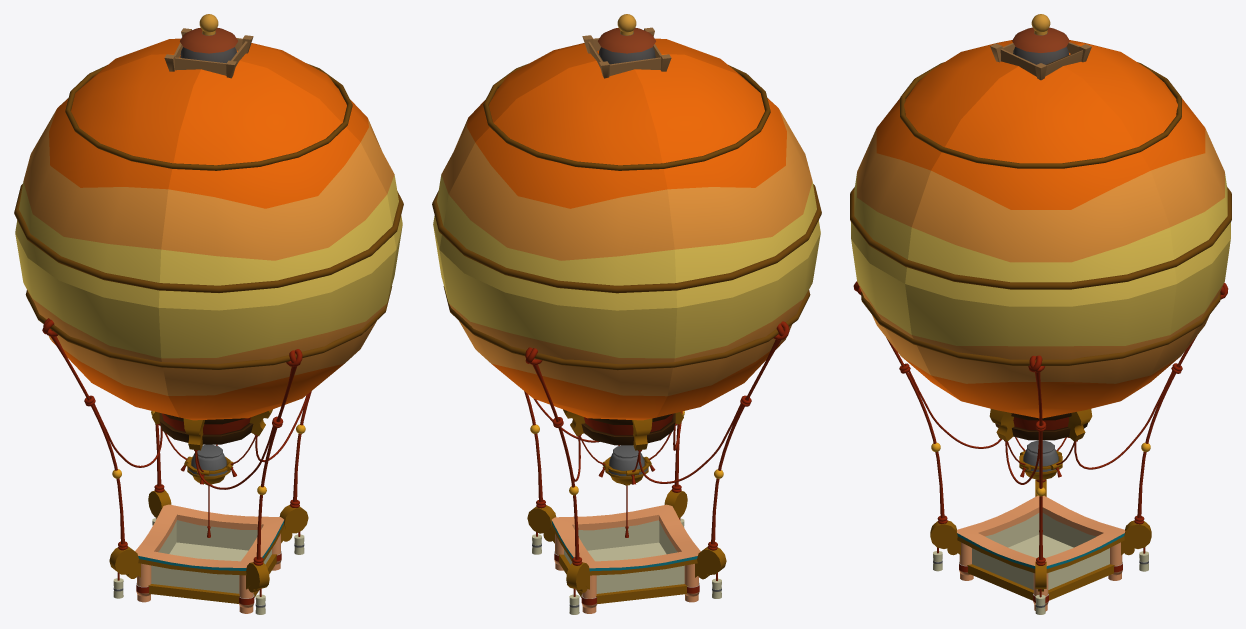
The model's file is Ballon1.fbx.
The picture shows the model from 3 angles, left to right: view 1: azimuth 30°, elevation 25°; view 2: azimuth 150°, elevation 25°; view 3: azimuth 270°, elevation 25°; orthographic projection.
Visible parts, largest first — view 1: Ballon, pCube24, pCube23, pTorus2, pTorus3, pTorus1, Vsas, pCylinder61, pTorus15, pCube39, pCube25, polySurface29 (+5 smaller); view 2: Ballon, pCube24, pCube23, pTorus2, pTorus3, pTorus1, Vsas, pCylinder61, pCylinder60, pCube39, pCube25, polySurface29 (+5 smaller); view 3: Ballon, pCube24, pCube23, pTorus2, pTorus3, pTorus1, pTorus14, pCube25, pCylinder60, pCube39, pTorus15, Vsas (+7 smaller).
Boxes of the visible parts, box(x1,y1,x2,y2) form: Ballon: box(15, 38, 402, 420); pCube24: box(135, 504, 284, 575); pCube23: box(151, 520, 271, 593); pTorus2: box(14, 184, 403, 292); pTorus3: box(65, 63, 352, 170); pTorus1: box(25, 286, 392, 369); Vsas: box(159, 413, 253, 444); pCylinder61: box(42, 318, 187, 550); pTorus15: box(194, 349, 302, 565); pCube39: box(164, 28, 253, 78); pCube25: box(148, 554, 276, 603); polySurface29: box(180, 28, 237, 53); Ballon: box(433, 38, 820, 420); pCube24: box(551, 504, 700, 575); pCube23: box(564, 520, 684, 593); pTorus2: box(432, 184, 821, 293); pTorus3: box(483, 63, 770, 170); pTorus1: box(443, 286, 810, 370); Vsas: box(581, 413, 675, 445); pCylinder61: box(631, 321, 789, 550); pCylinder60: box(525, 347, 605, 565); pCube39: box(582, 27, 671, 78); pCube25: box(559, 554, 687, 604); polySurface29: box(598, 28, 655, 53); Ballon: box(851, 40, 1230, 418); pCube24: box(957, 495, 1125, 573); pCube23: box(972, 513, 1109, 589); pTorus2: box(850, 187, 1231, 289); pTorus3: box(900, 62, 1181, 168); pTorus1: box(861, 291, 1220, 365); pTorus14: box(1004, 355, 1046, 565); pCube25: box(967, 564, 1114, 600); pCylinder60: box(1055, 283, 1228, 524); pCube39: box(990, 42, 1091, 80); pTorus15: box(853, 281, 1025, 524); Vsas: box(995, 413, 1087, 440).
Bounding box in the file's own units: 27.79 × 45.23 × 27.79.
